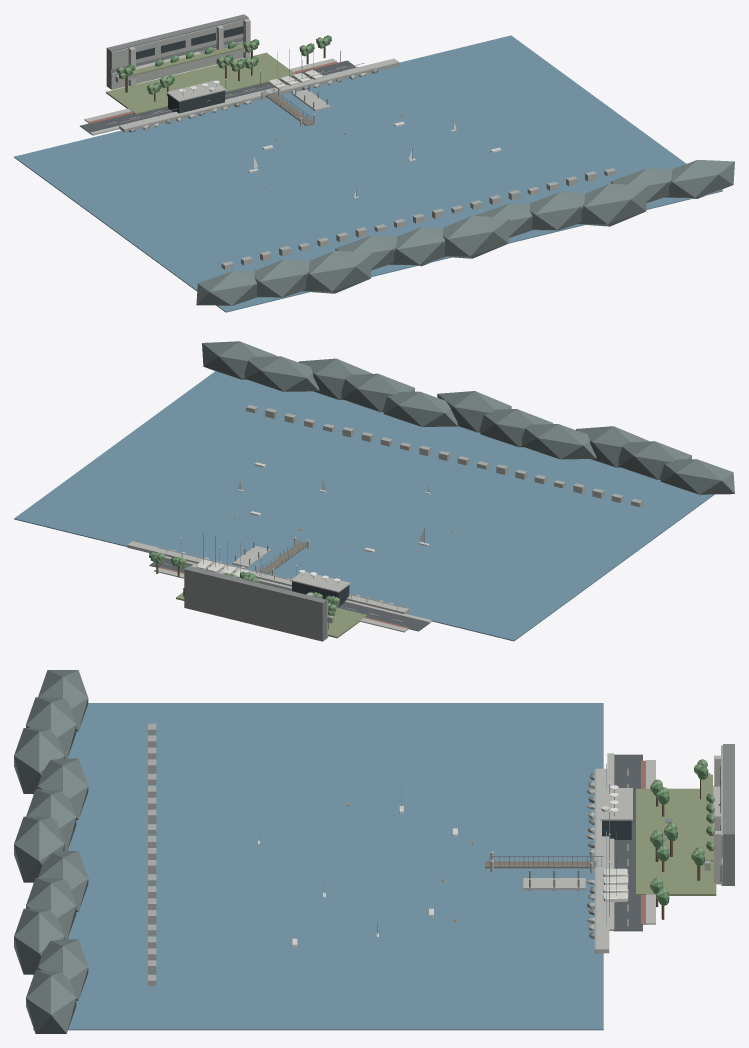
3 renders of one model, top to bottom at view 1: azimuth 30°, elevation 25°; view 2: azimuth 150°, elevation 25°; view 3: azimuth 270°, elevation 25°, orthographic. The views are drawn at different scales.
Parts seen in each view (by area): view 1: lake_water, grass_bank, distant_hill_5, distant_hill_8, distant_hill_2, distant_hill_10, distant_hill_0, distant_hill_1, distant_hill_7, distant_hill_4, facade_upper_stone, shore_road (+11 smaller); view 2: lake_water, building_main_mass, distant_hill_0, distant_hill_9, distant_hill_3, distant_hill_6, distant_hill_1, distant_hill_7, distant_hill_10, distant_hill_5, distant_hill_4, distant_hill_8 (+7 smaller); view 3: lake_water, grass_bank, shore_road, distant_hill_10, distant_hill_5, distant_hill_8, distant_hill_2, shore_promenenade, distant_hill_1, distant_hill_7, distant_hill_9, distant_hill_3 (+8 smaller).
Boxes of the visible parts, x1=… form: lake_water: x1=14, y1=35, x2=722, y2=312; grass_bank: x1=106, y1=52, x2=295, y2=114; distant_hill_5: x1=442, y1=215, x2=509, y2=258; distant_hill_8: x1=577, y1=183, x2=647, y2=226; distant_hill_2: x1=302, y1=250, x2=372, y2=293; distant_hill_10: x1=664, y1=159, x2=734, y2=198; distant_hill_0: x1=196, y1=270, x2=257, y2=305; distant_hill_1: x1=254, y1=259, x2=310, y2=297; distant_hill_7: x1=529, y1=192, x2=585, y2=230; distant_hill_4: x1=389, y1=227, x2=445, y2=266; facade_upper_stone: x1=111, y1=18, x2=249, y2=69; shore_road: x1=80, y1=60, x2=356, y2=133; lake_water: x1=14, y1=371, x2=714, y2=641; building_main_mass: x1=184, y1=566, x2=327, y2=641; distant_hill_0: x1=660, y1=459, x2=734, y2=494; distant_hill_9: x1=244, y1=356, x2=319, y2=391; distant_hill_3: x1=521, y1=424, x2=596, y2=459; distant_hill_6: x1=383, y1=391, x2=457, y2=426; distant_hill_1: x1=618, y1=441, x2=691, y2=479; distant_hill_7: x1=341, y1=373, x2=414, y2=412; distant_hill_10: x1=202, y1=341, x2=276, y2=379; distant_hill_5: x1=437, y1=391, x2=511, y2=432; distant_hill_4: x1=480, y1=409, x2=553, y2=447; distant_hill_8: x1=298, y1=358, x2=372, y2=399; lake_water: x1=33, y1=703, x2=603, y2=1030; grass_bank: x1=636, y1=788, x2=716, y2=895; shore_road: x1=613, y1=754, x2=642, y2=931; distant_hill_10: x1=26, y1=970, x2=76, y2=1033; distant_hill_5: x1=14, y1=816, x2=64, y2=882; distant_hill_8: x1=14, y1=908, x2=64, y2=974; distant_hill_2: x1=14, y1=728, x2=64, y2=793; shore_promenenade: x1=596, y1=768, x2=609, y2=953; distant_hill_1: x1=26, y1=697, x2=76, y2=758; distant_hill_7: x1=26, y1=878, x2=76, y2=939; distant_hill_9: x1=37, y1=939, x2=88, y2=1000; distant_hill_3: x1=37, y1=758, x2=88, y2=819.
Bounding box in the file's own units: 140 × 12.3 × 121.
